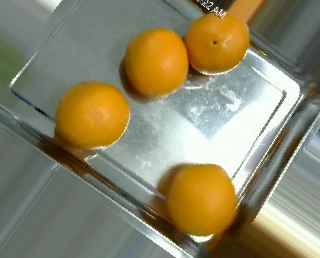Orange: (165, 162, 236, 236), (55, 80, 130, 148), (125, 27, 189, 98)
